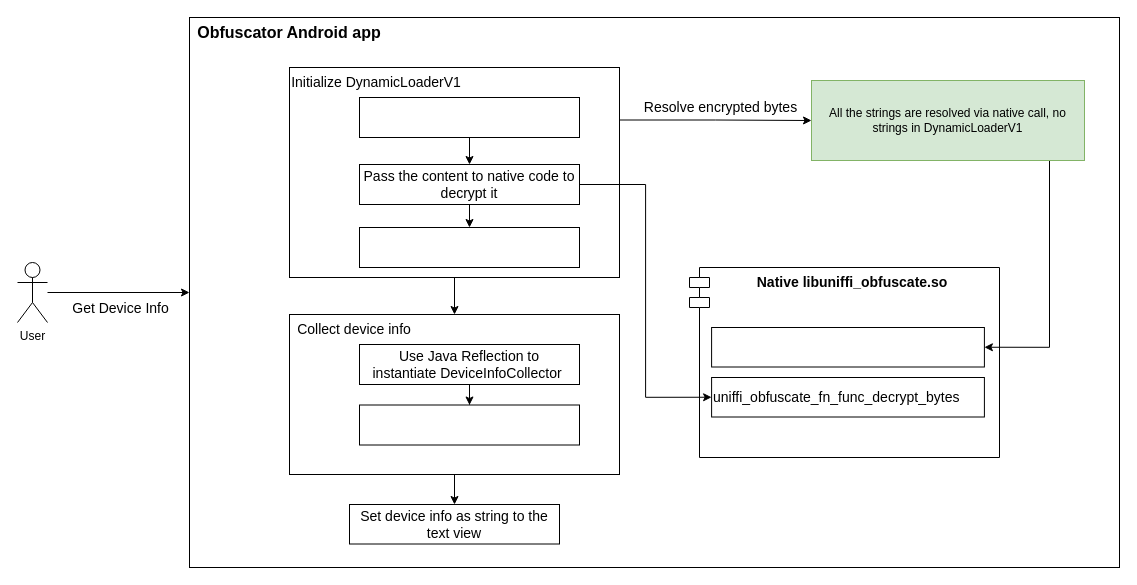
Image size: 1137x585. Some labels were removed from this diagram. The box of each missing label's shape, as (x1, y1, x2, y2) in pixels:
Call collectDeviceInfo: (358, 404, 580, 445)
Create InMemoryDexClassLoader with decrypted data: (358, 226, 580, 268)
uniffi_obfuscate_fn_func_decrypt: (711, 326, 984, 367)
Use Java Reflection to read data.bin: (358, 96, 580, 138)
